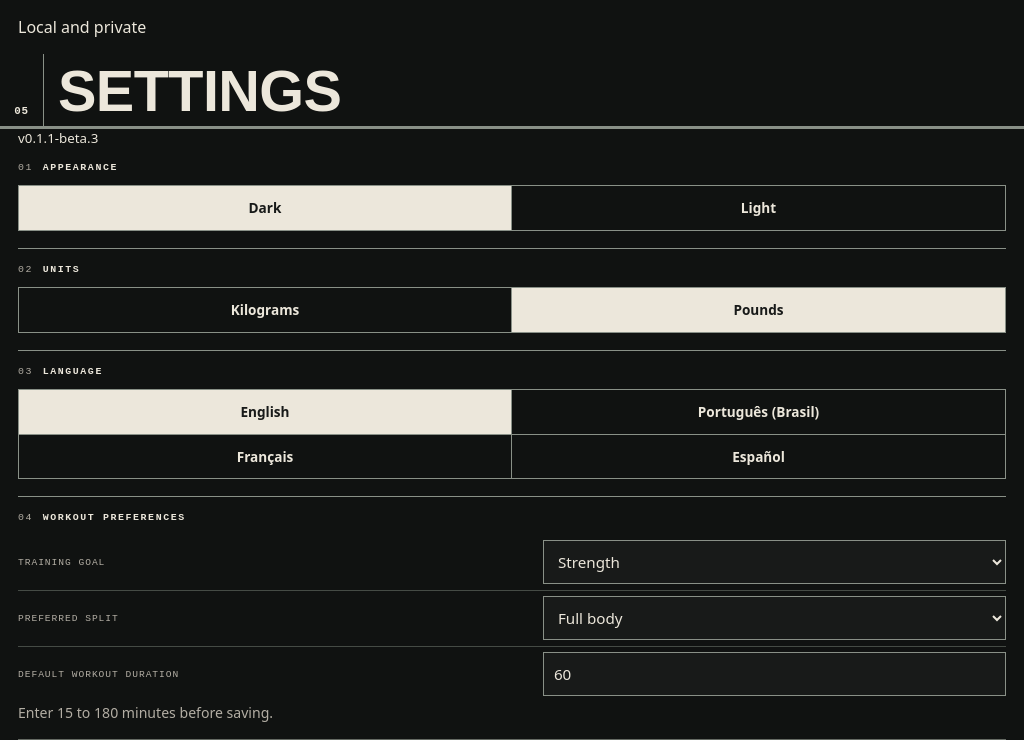
Test case: SettingsPage language control › does not disturb other settings when switching language
Expected: the heading "05 Settings" is shown, [0,54,1023,129]
Step 1. Click the button "Português (Brasil)" → (758, 412), box [512,390,1005,434]
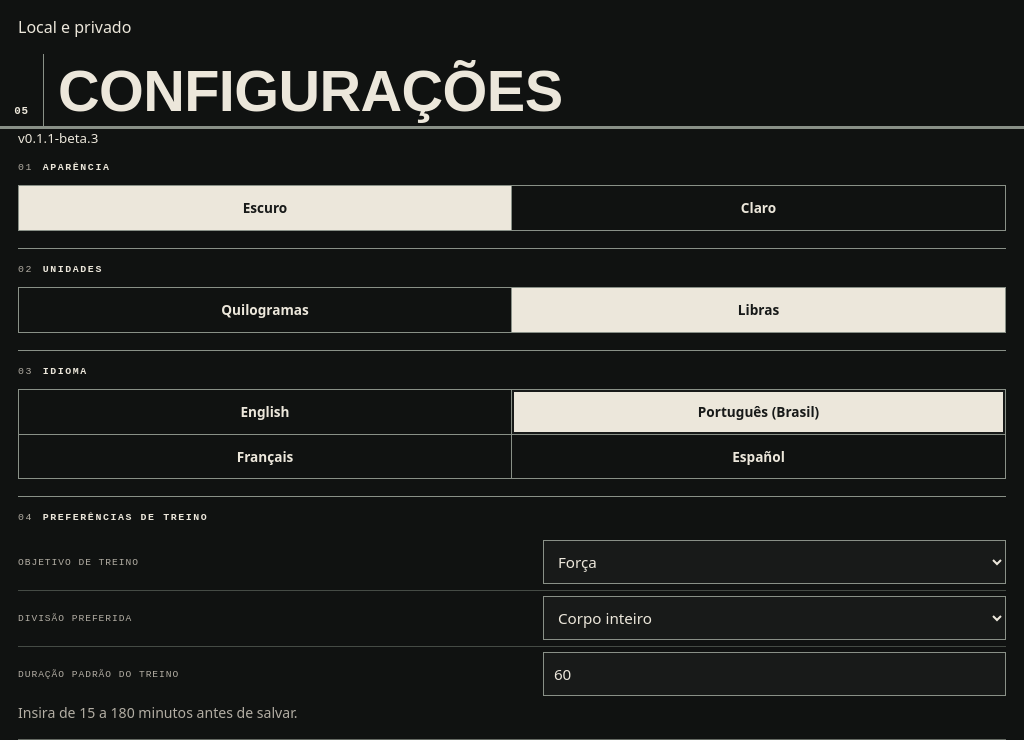
Now the heading "05 Configurações" is shown, box [0,54,1023,129]
